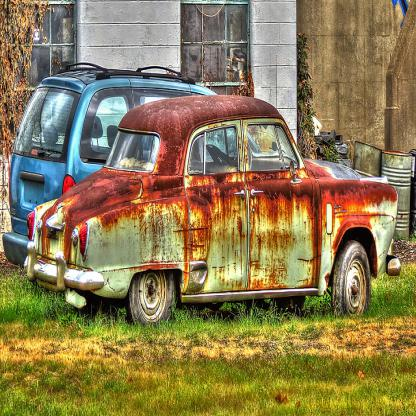Car: (23, 95, 401, 327), (2, 62, 262, 268)
